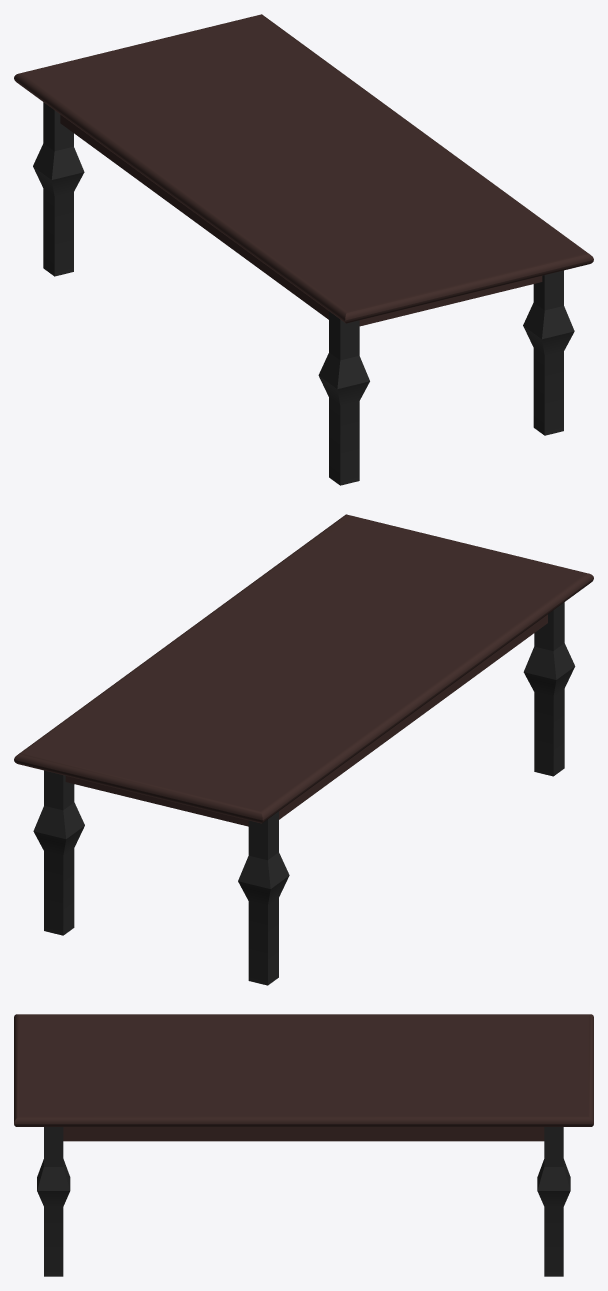
The model's file is GrandeTable_58.fbx.
The picture shows the model from 3 angles, top to bottom: view 1: azimuth 30°, elevation 25°; view 2: azimuth 150°, elevation 25°; view 3: azimuth 270°, elevation 25°; orthographic projection. The views are drawn at different scales.
Parts seen in each view (by area): view 1: pCube95, polySurface21, polySurface20, polySurface22; view 2: pCube95, polySurface22, polySurface23, polySurface21; view 3: pCube95, polySurface23, polySurface20.
Boxes of the visible parts, x1,y1,x2,y2 form: pCube95: [14, 14, 593, 326]; polySurface21: [318, 311, 369, 485]; polySurface20: [523, 270, 574, 435]; polySurface22: [33, 102, 84, 276]; pCube95: [14, 514, 593, 826]; polySurface22: [238, 811, 289, 985]; polySurface23: [33, 770, 84, 935]; polySurface21: [523, 602, 575, 776]; pCube95: [14, 1014, 593, 1141]; polySurface23: [537, 1127, 570, 1276]; polySurface20: [37, 1127, 70, 1276].
Size of the model in its own units: 56.59 by 40.5 by 130.
